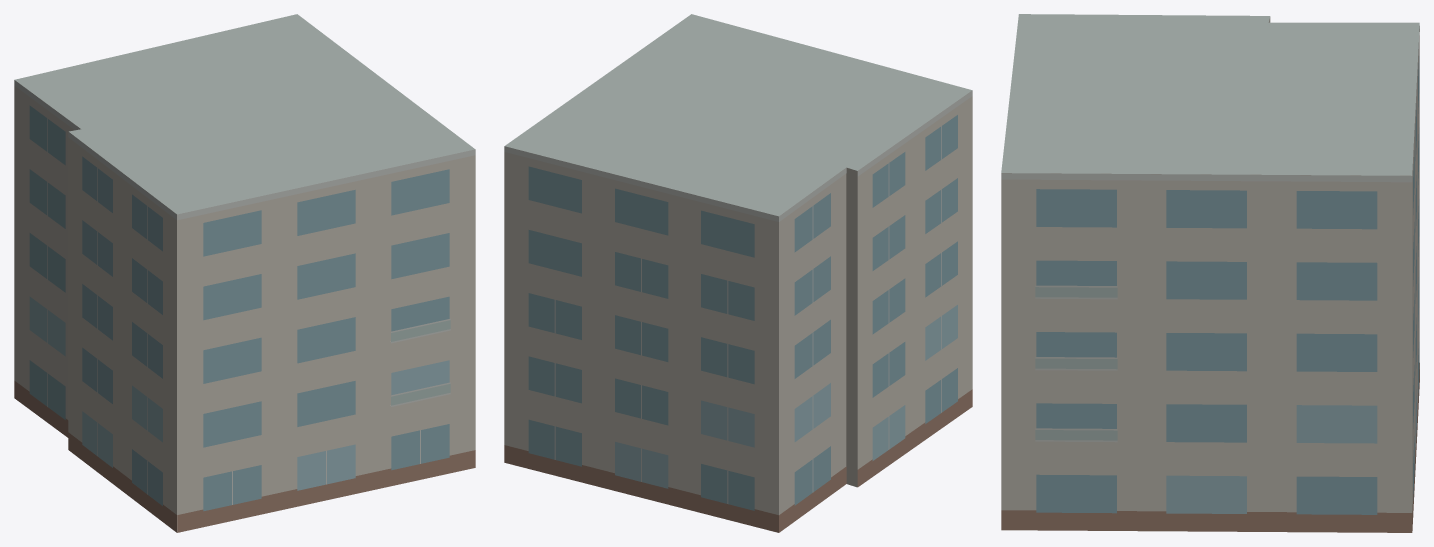
The model's file is survey-upis-32957834.glb.
The picture shows the model from 3 angles, left to right: view 1: azimuth 30°, elevation 25°; view 2: azimuth 150°, elevation 25°; view 3: azimuth 270°, elevation 25°; orthographic projection. The views are drawn at different scales.
Visible parts, largest first — view 1: survey-upis-32957834.tmp; view 2: survey-upis-32957834.tmp; view 3: survey-upis-32957834.tmp.
Part boxes in pixels (x1,y1,x2,y2): survey-upis-32957834.tmp: [14, 14, 475, 532]; survey-upis-32957834.tmp: [504, 14, 972, 532]; survey-upis-32957834.tmp: [1001, 14, 1419, 532].
Size of the model in its own units: 13.03 by 13.4 by 14.25.
